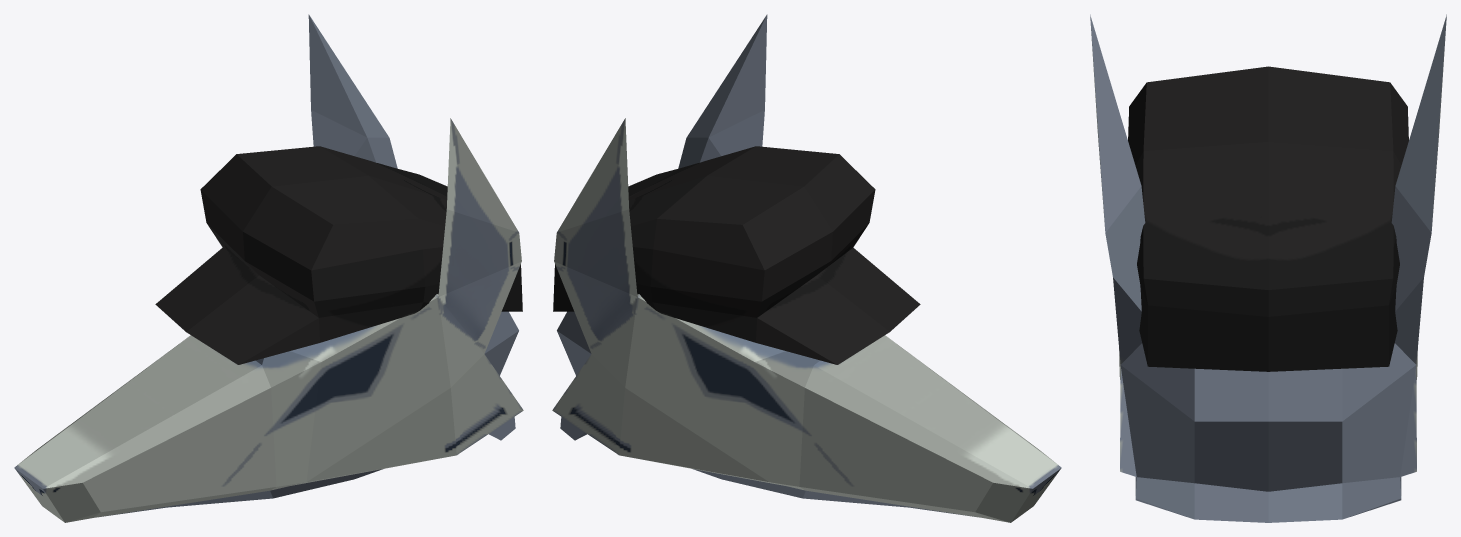
Rendered from StalkerHead.fbx.
3 renders of one model, left to right at view 1: azimuth 30°, elevation 25°; view 2: azimuth 150°, elevation 25°; view 3: azimuth 270°, elevation 25°, orthographic. The views are drawn at different scales.
Visible parts, largest first — view 1: Stalker; view 2: Stalker; view 3: Stalker.
Boxes of the visible parts, left/top/right/bottom form: Stalker: left=14, top=14, right=523, bottom=522; Stalker: left=552, top=14, right=1061, bottom=522; Stalker: left=1090, top=14, right=1446, bottom=522.
Size of the model in its own units: 39.52 by 31.38 by 20.86.
